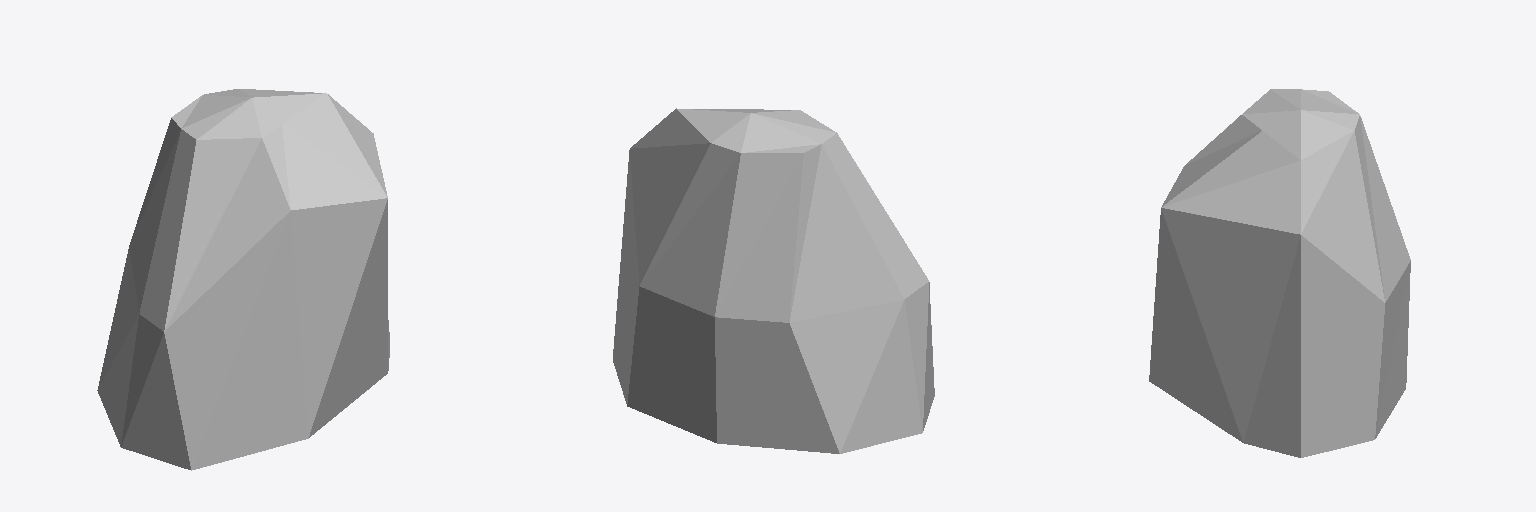
File: rawMaterial3.obj
3 views of the same model, side by side, from view 1: azimuth 30°, elevation 25°; view 2: azimuth 150°, elevation 25°; view 3: azimuth 270°, elevation 25° (orthographic).
Parts seen in each view (by area): view 1: initialShadingGroup pCube3; view 2: initialShadingGroup pCube3; view 3: initialShadingGroup pCube3.
Boxes of the visible parts, <box> form: initialShadingGroup pCube3: <box>97,89,389,470</box>; initialShadingGroup pCube3: <box>613,108,934,453</box>; initialShadingGroup pCube3: <box>1149,89,1410,457</box>.
Bounding box in the file's own units: 0.7045 × 0.6924 × 0.5512.